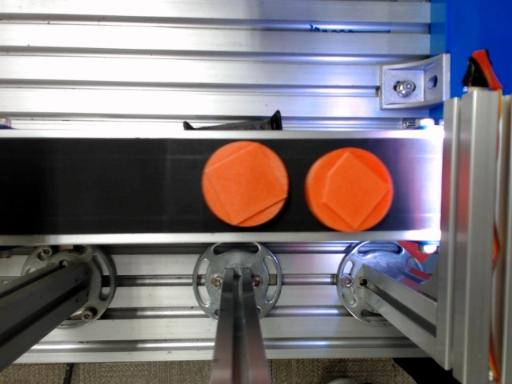Orange_Waper: (202, 141, 288, 226), (308, 148, 393, 231)
